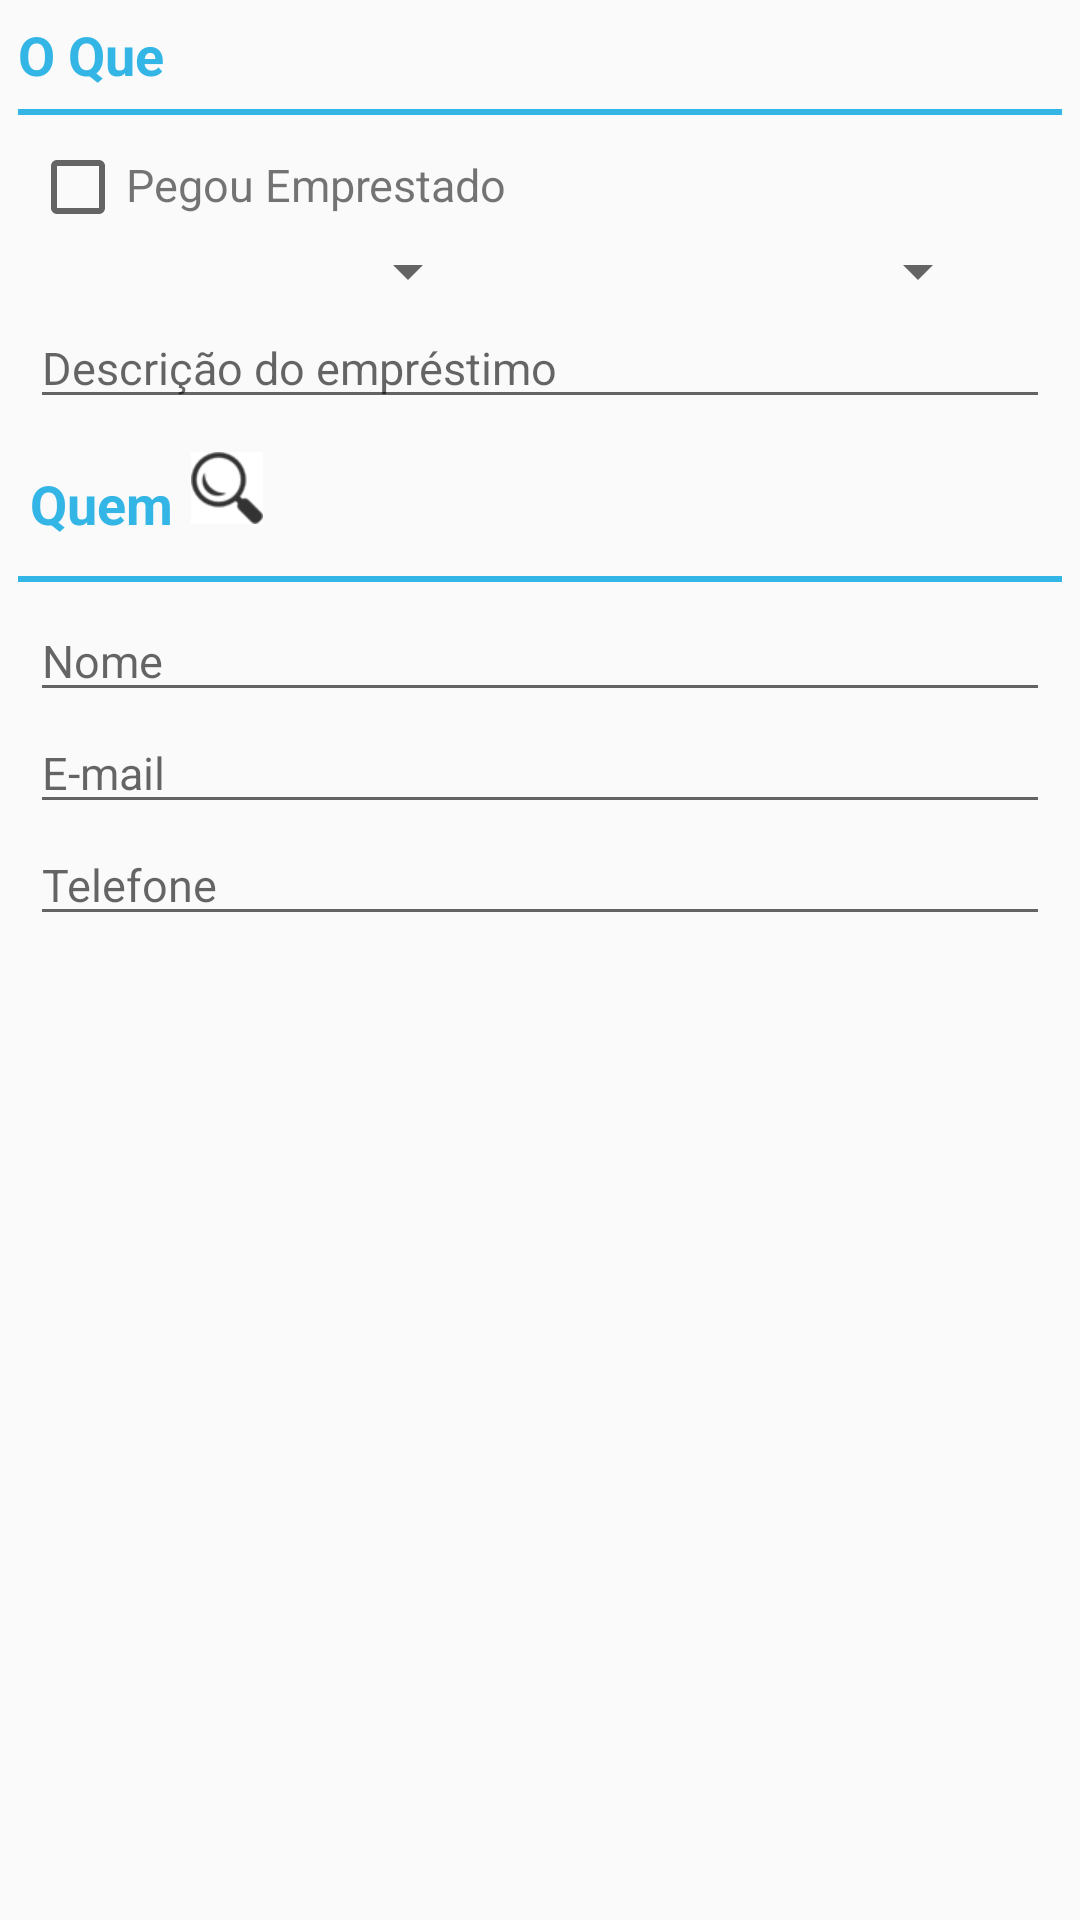

Where icons sit on this 1080×1920 app screen, as rect(x1, y1, x2, y2):
Buscar: rect(191, 452, 263, 524)
